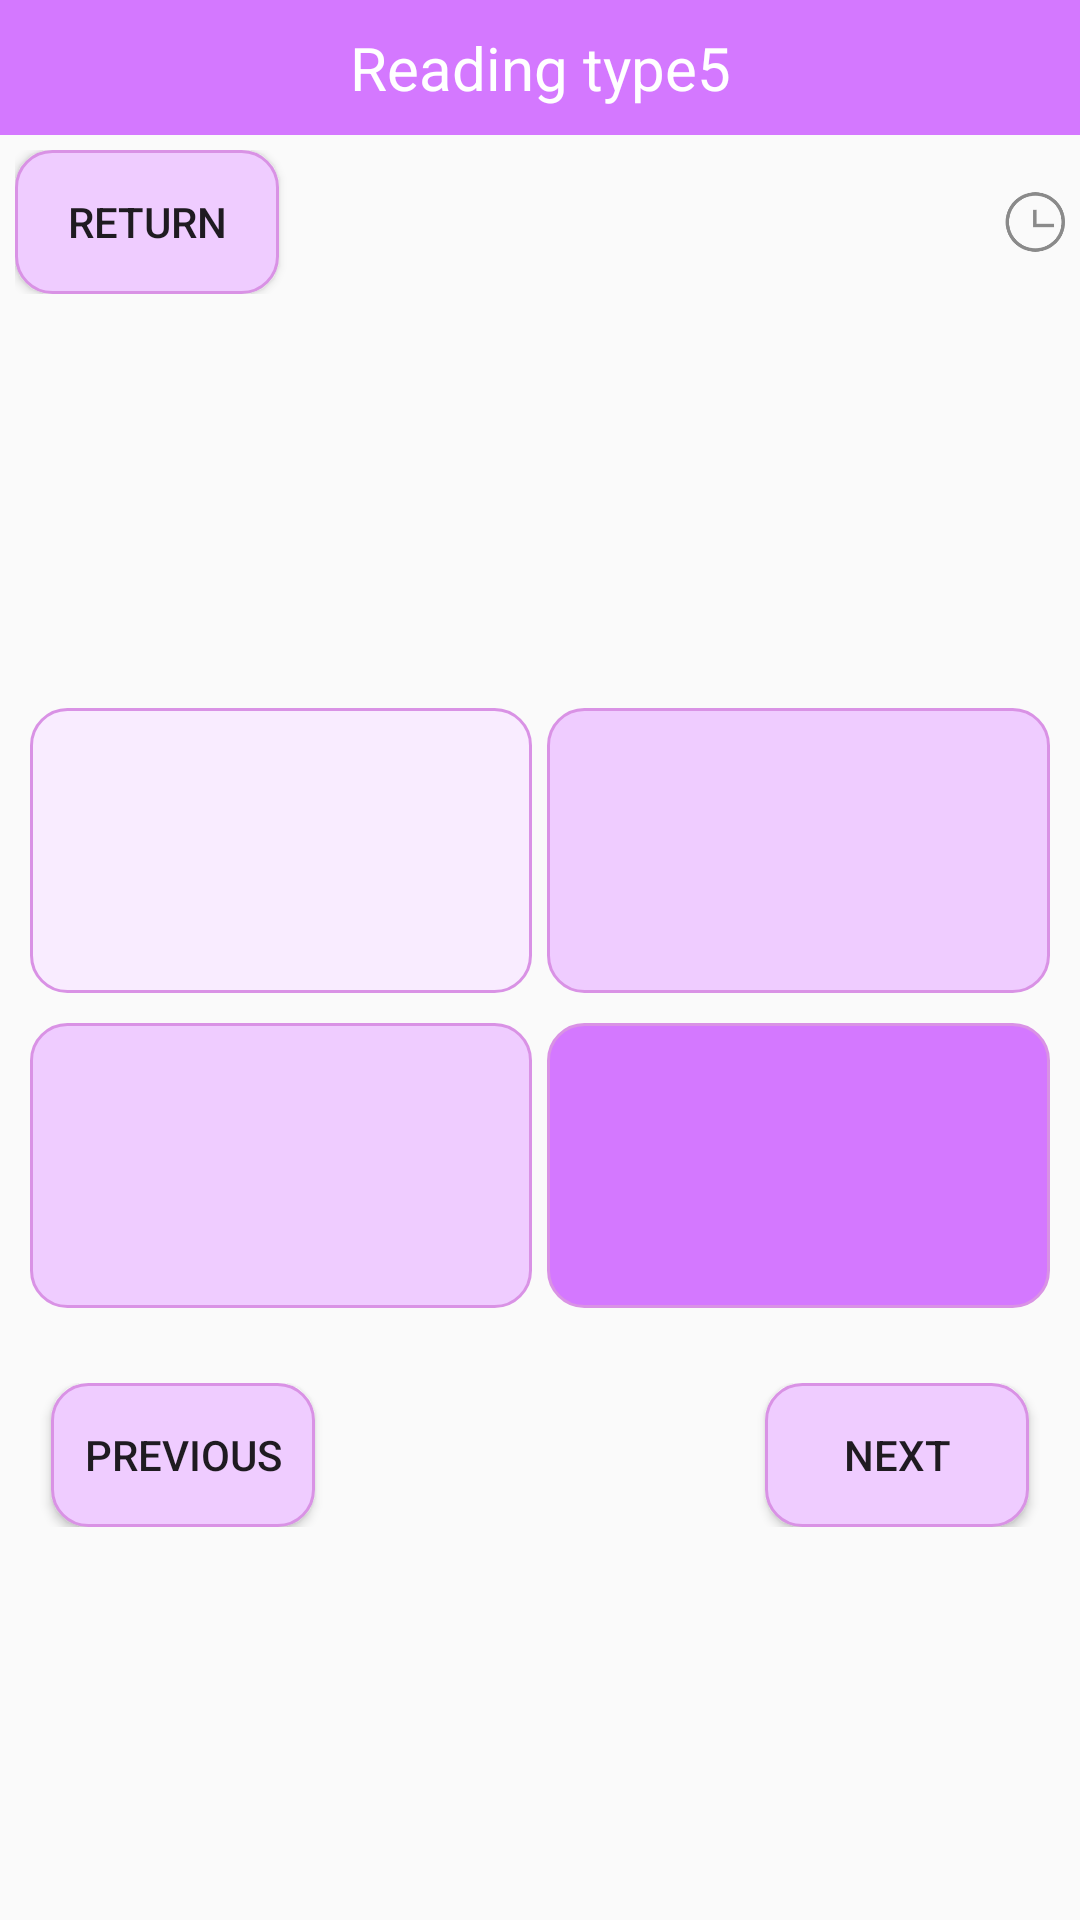

Icon bounding boxes for this 1080px x 1920px phone screenshot, format bbox=(x1, y1, x2, y2):
time: bbox=(1005, 192, 1065, 252)
